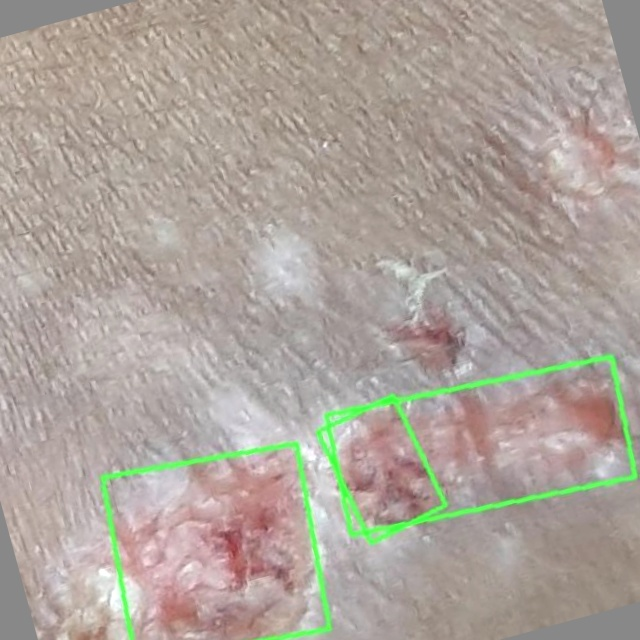Eczema: (326, 357, 635, 536), (102, 443, 329, 639), (317, 396, 445, 542)
